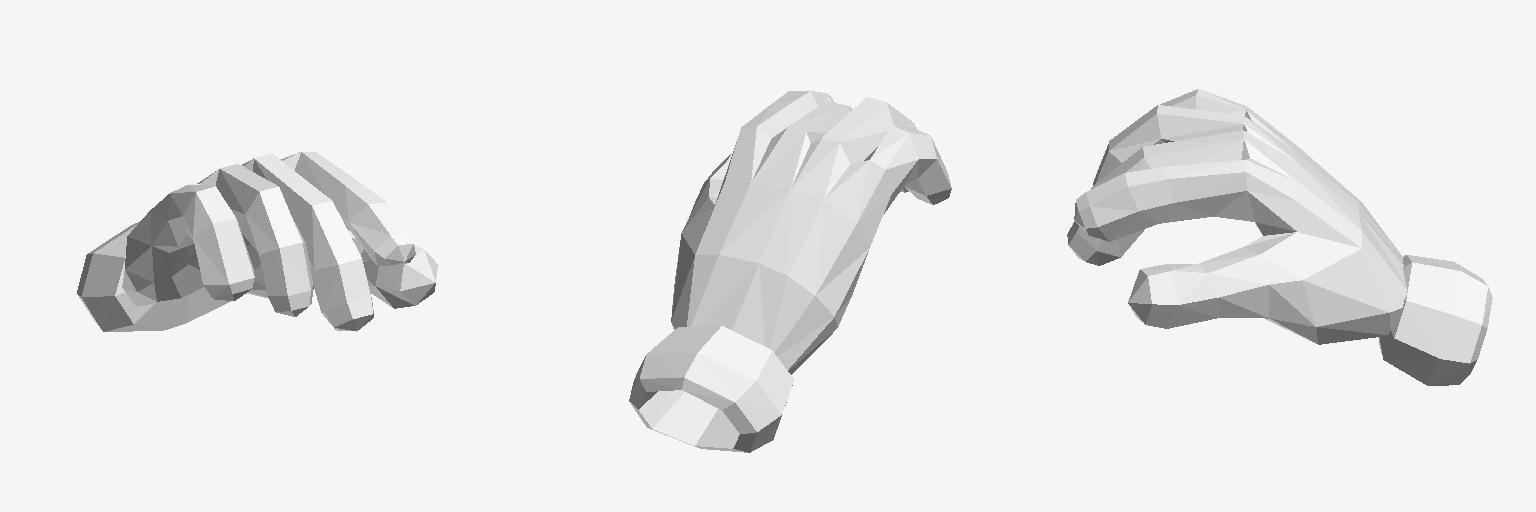
The picture shows the model from 3 angles: view 1: azimuth 30°, elevation 25°; view 2: azimuth 150°, elevation 25°; view 3: azimuth 270°, elevation 25°; orthographic projection.
Visible parts, largest first — view 1: Material.102, Material.114, Material.120, Material.113, Material.117, Material.107, Material.110, Material.112, Material.116, Material.111, Material.115, Material.108 (+3 smaller); view 2: Material.114, Material.104, Material.102, Material.103, Material.115, Material.118, Material.105, Material.120, Material.111, Material.108, Material.119, Material.109; view 3: Material.105, Material.102, Material.104, Material.107, Material.108, Material.106, Material.110, Material.111, Material.114, Material.109, Material.115, Material.113 (+3 smaller).
Part boxes in pixels (x1,y1,x2,y2): Material.102: (77,222,230,331); Material.114: (122,165,243,306); Material.120: (193,218,254,300); Material.113: (310,259,373,331); Material.117: (259,242,312,316); Material.107: (361,245,437,308); Material.110: (349,202,415,265); Material.112: (296,201,361,270); Material.116: (240,187,304,254); Material.111: (253,153,331,222); Material.115: (216,164,278,225); Material.108: (295,152,362,200); Material.114: (732,138,891,374); Material.104: (671,127,810,329); Material.102: (629,326,793,452); Material.103: (639,390,739,448); Material.115: (822,97,893,163); Material.118: (870,125,918,213); Material.105: (671,197,716,320); Material.120: (904,137,951,204); Material.111: (789,101,849,142); Material.108: (741,101,801,138); Material.119: (894,125,936,184); Material.109: (776,91,817,116); Material.105: (1244,232,1390,344); Material.102: (1378,255,1492,385); Material.104: (1241,131,1407,327); Material.107: (1128,264,1218,328); Material.108: (1164,160,1254,221); Material.106: (1199,247,1268,318); Material.110: (1074,173,1157,241); Material.111: (1143,130,1243,168); Material.114: (1243,107,1403,265); Material.109: (1125,167,1212,223); Material.115: (1157,105,1244,142); Material.113: (1067,188,1144,265).
Size of the model in its own units: 1.02 by 1.02 by 1.59.
1 materials, 1 textured.